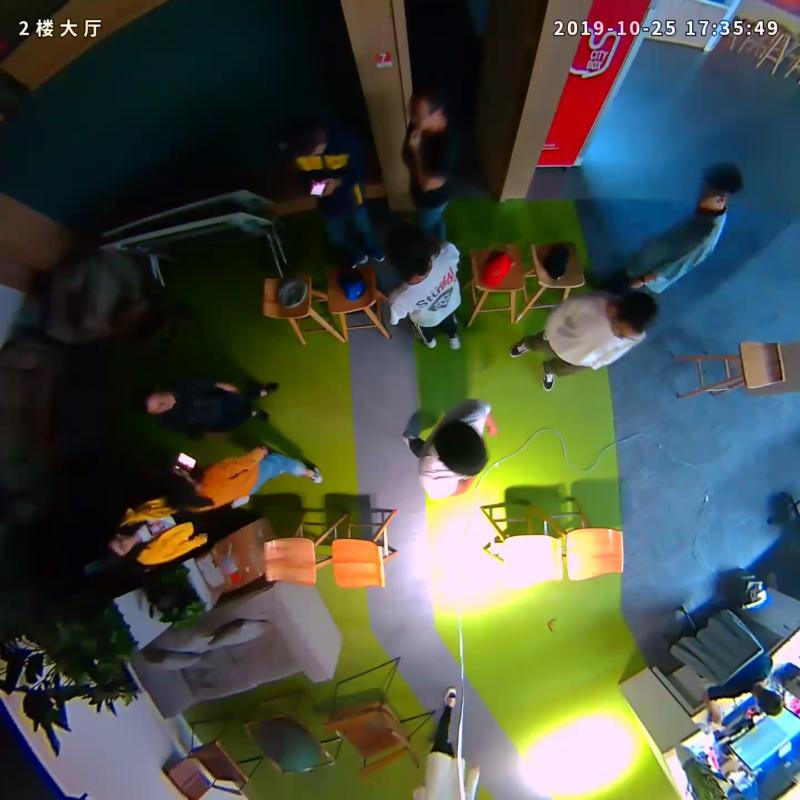head: (428, 416, 491, 481), (602, 286, 666, 347), (379, 226, 439, 286), (690, 156, 750, 214), (399, 79, 453, 137), (148, 466, 202, 516), (124, 384, 184, 423), (277, 117, 332, 158), (88, 528, 137, 569)
